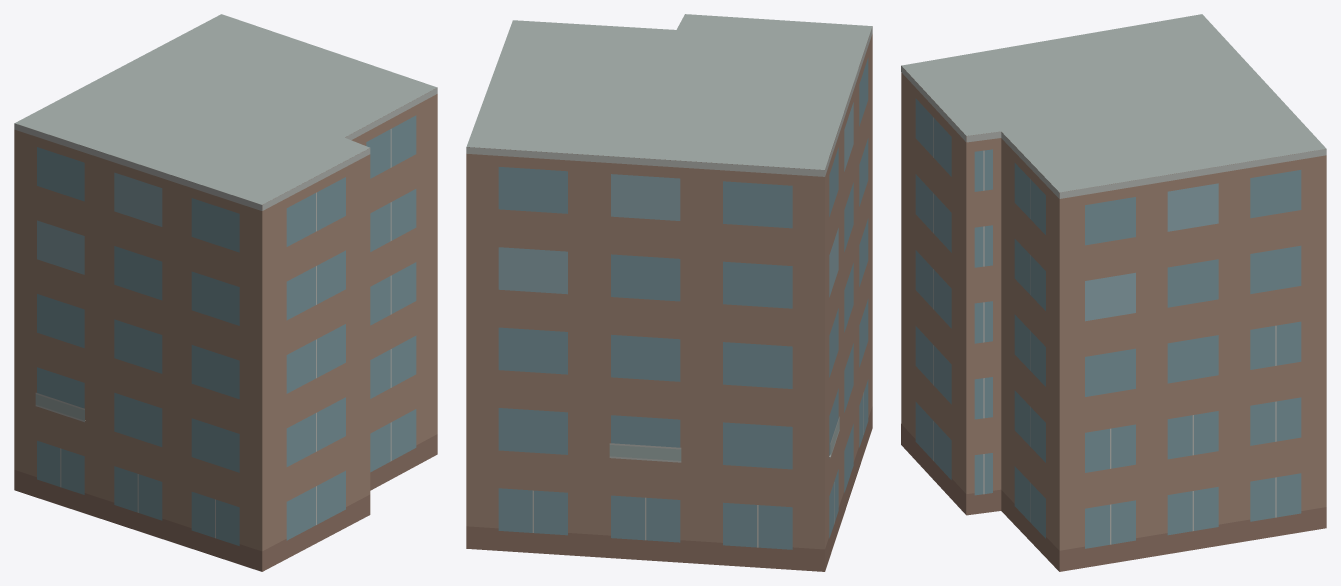
Rendered from survey-upis-32850540.glb.
3 views of the same model, side by side, from view 1: azimuth 30°, elevation 25°; view 2: azimuth 150°, elevation 25°; view 3: azimuth 270°, elevation 25° (orthographic). The views are drawn at different scales.
Visible parts, largest first — view 1: survey-upis-32850540.tmp; view 2: survey-upis-32850540.tmp; view 3: survey-upis-32850540.tmp.
Part boxes in pixels (<box>): survey-upis-32850540.tmp: <box>14,14,437,571</box>; survey-upis-32850540.tmp: <box>466,14,872,571</box>; survey-upis-32850540.tmp: <box>901,14,1326,571</box>.
Size of the model in its own units: 14.39 by 14.25 by 14.49.
